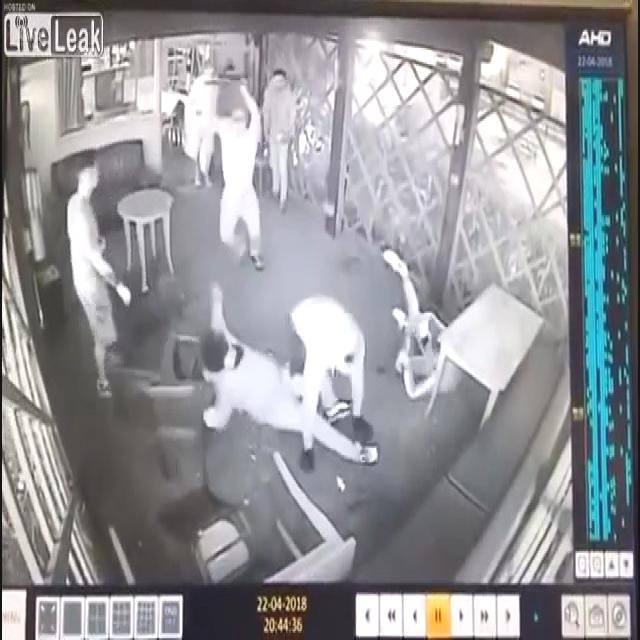fight: (182, 275, 386, 480)
